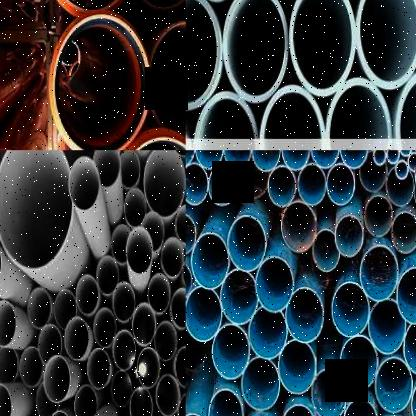pipe: (51, 13, 151, 150), (0, 150, 72, 270), (222, 0, 288, 103), (289, 0, 356, 97), (356, 0, 416, 89), (148, 21, 186, 141), (186, 0, 222, 112), (143, 150, 186, 217), (190, 233, 230, 290), (278, 338, 317, 396), (285, 286, 324, 344), (227, 214, 266, 272), (339, 334, 378, 391), (255, 256, 294, 313), (331, 282, 370, 338), (360, 245, 398, 302), (248, 306, 288, 360), (212, 324, 250, 380), (368, 298, 406, 354), (375, 357, 412, 413), (221, 269, 258, 325), (242, 356, 280, 410), (186, 286, 222, 342), (281, 201, 317, 253), (310, 367, 346, 416), (68, 156, 100, 210), (43, 355, 71, 403), (297, 163, 327, 206), (326, 163, 356, 206), (335, 214, 364, 258), (126, 227, 153, 274), (239, 156, 268, 199), (57, 150, 122, 169), (395, 267, 416, 325), (312, 229, 340, 272), (268, 165, 296, 208), (359, 150, 387, 193), (208, 165, 237, 206), (365, 195, 393, 237), (386, 167, 415, 207), (0, 150, 55, 171), (390, 211, 416, 253), (64, 317, 89, 360), (92, 150, 120, 187), (132, 302, 156, 345), (156, 374, 180, 416), (112, 329, 136, 370), (208, 388, 243, 416), (87, 348, 110, 390), (20, 346, 43, 388), (186, 162, 208, 205), (137, 347, 160, 388), (155, 320, 178, 361), (28, 287, 51, 328), (161, 236, 184, 277), (38, 324, 61, 364), (54, 289, 77, 329), (76, 274, 99, 314), (148, 273, 171, 313), (96, 255, 119, 295), (124, 188, 147, 227), (94, 307, 116, 347), (142, 211, 164, 251), (113, 282, 135, 321), (111, 370, 133, 408), (35, 381, 58, 416), (111, 225, 131, 264), (73, 384, 97, 416), (120, 150, 140, 188), (0, 300, 16, 347), (129, 387, 153, 416), (341, 397, 377, 416), (0, 347, 18, 383), (281, 150, 311, 171), (252, 150, 280, 172), (223, 150, 252, 171), (172, 287, 186, 328), (310, 150, 340, 169), (195, 150, 223, 170), (339, 150, 368, 169), (174, 346, 186, 389), (174, 204, 186, 243), (280, 404, 317, 416), (186, 212, 196, 255), (0, 384, 11, 416), (395, 160, 409, 180), (186, 260, 192, 301), (372, 150, 386, 166), (177, 391, 185, 416), (386, 150, 400, 164), (407, 151, 416, 172), (47, 411, 71, 416), (399, 150, 413, 157)
